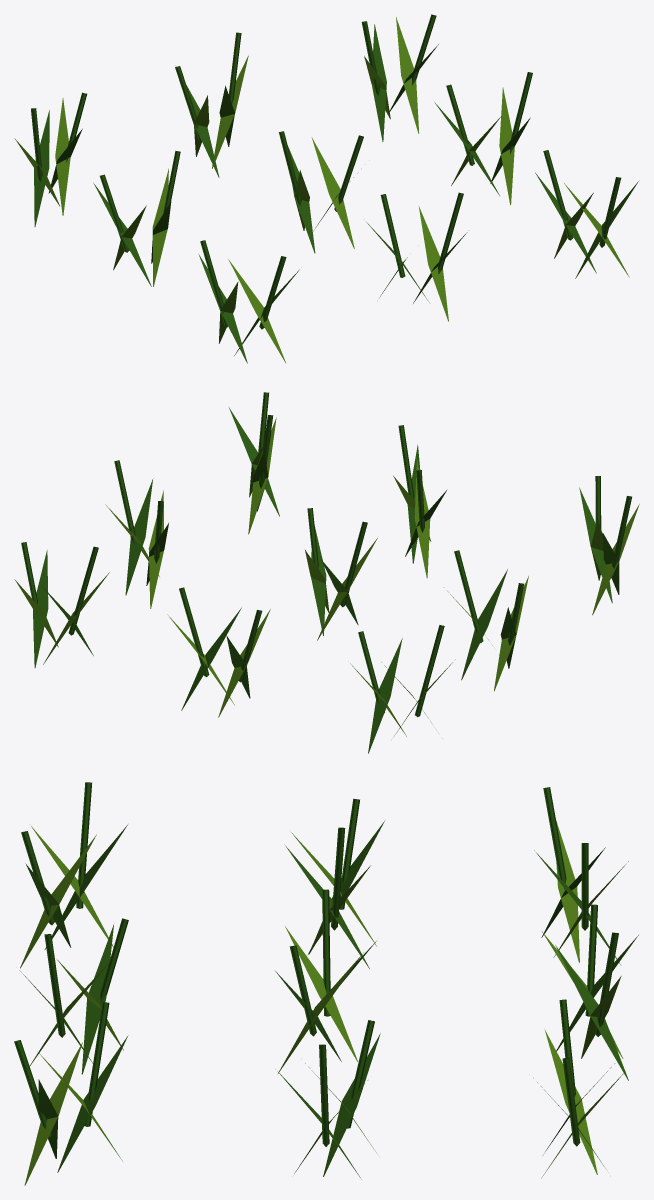
Rendered from crop-cell-rice-seedling.obj.
3 renders of one model, top to bottom at view 1: azimuth 30°, elevation 25°; view 2: azimuth 150°, elevation 25°; view 3: azimuth 270°, elevation 25°, orthographic. The views are drawn at different scales.
Parts seen in each view (by area): view 1: crop-cell-rice-seedling; view 2: crop-cell-rice-seedling; view 3: crop-cell-rice-seedling.
Part boxes in pixels (x1,y1,x2,y2): crop-cell-rice-seedling: (14, 14, 639, 363); crop-cell-rice-seedling: (14, 392, 639, 753); crop-cell-rice-seedling: (14, 782, 638, 1185).
Bounding box in the file's own units: 0.4744 × 0.1235 × 0.4645.
1 material, 1 textured.
